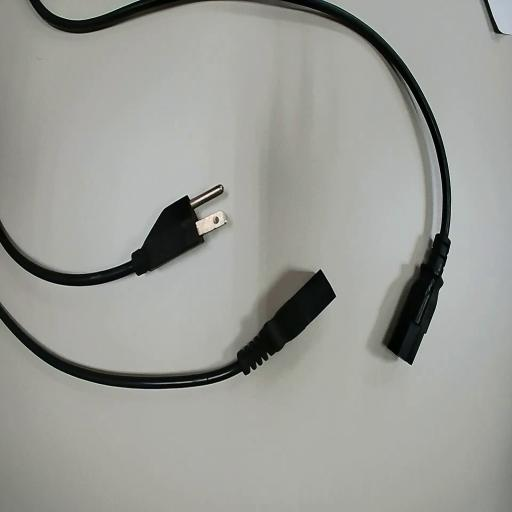wire: (283, 0, 449, 362), (0, 271, 334, 387), (0, 191, 221, 284)
